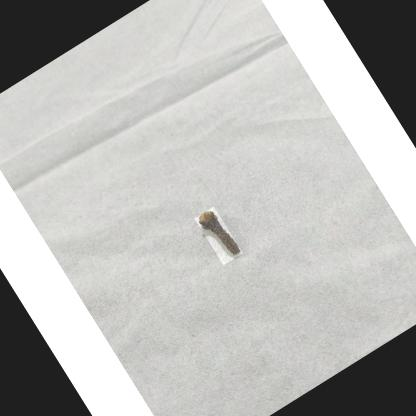sedang: (200, 211, 242, 258)
